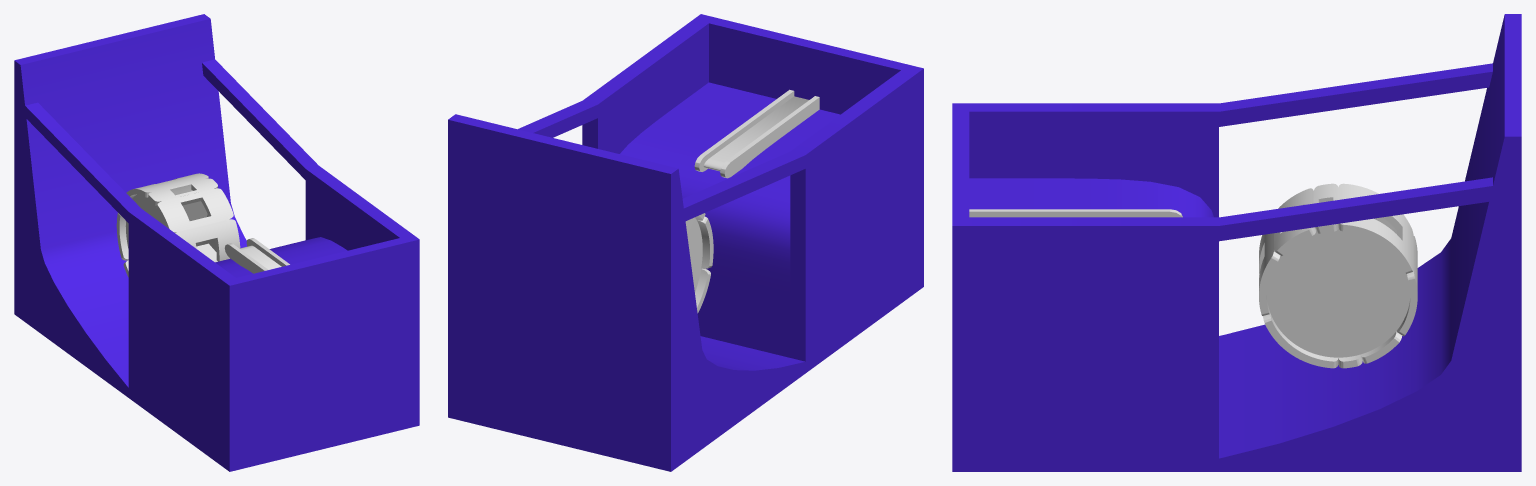
Rendered from Shxtou Arcade.fbx.
The picture shows the model from 3 angles, left to right: view 1: azimuth 30°, elevation 25°; view 2: azimuth 150°, elevation 25°; view 3: azimuth 270°, elevation 25°; orthographic projection. The views are drawn at different scales.
Visible parts, largest first — view 1: Cube.001, Cylinder, Track Guide Left; view 2: Cube.001, Cylinder, Track Guide Left, Track, Track Guide Right; view 3: Cube.001, Cylinder, Track Guide Left.
Boxes of the visible parts, x1,y1,x2,y2 form: Cube.001: [14, 14, 419, 471]; Cylinder: [116, 173, 240, 277]; Track Guide Left: [224, 243, 268, 273]; Cube.001: [448, 14, 923, 471]; Cylinder: [685, 213, 713, 313]; Track Guide Left: [720, 96, 819, 178]; Track: [703, 96, 808, 171]; Track Guide Right: [694, 89, 794, 171]; Cube.001: [952, 14, 1521, 471]; Cylinder: [1259, 183, 1417, 368]; Track Guide Left: [969, 209, 1182, 217].
Bounding box in the file's own units: 163 × 207 × 319.
